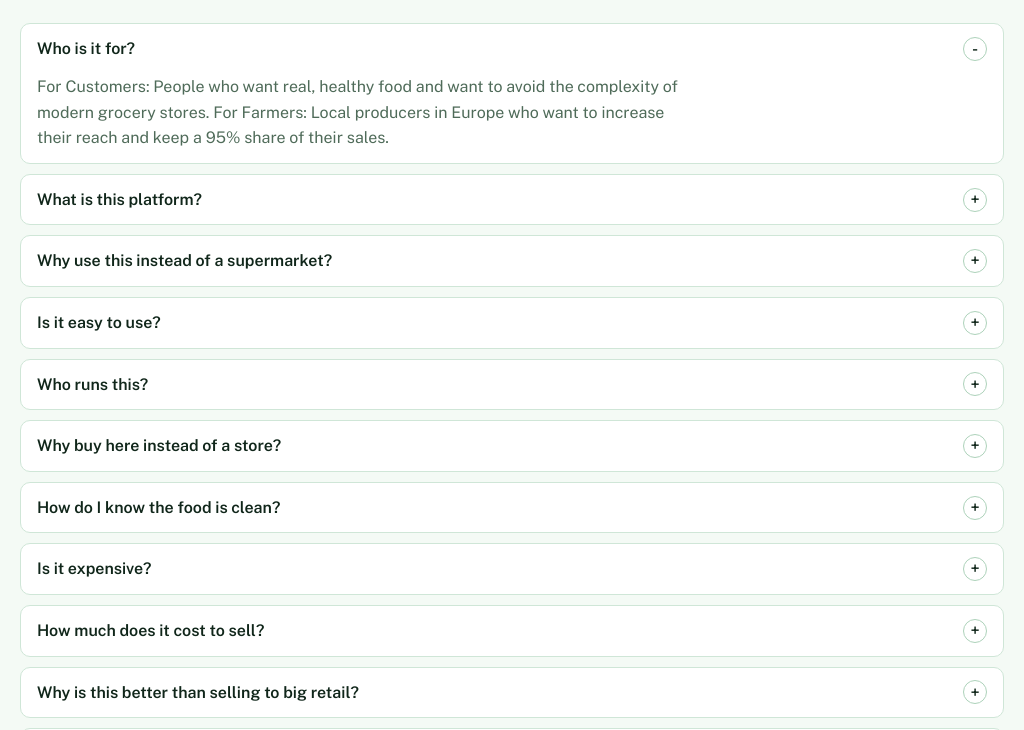
Test: App › expands FAQ answers in accordion mode
(page scrolled)
Click the button "Who runs this? +" at (93, 384), box [21,360,1003,409]
(page scrolled)
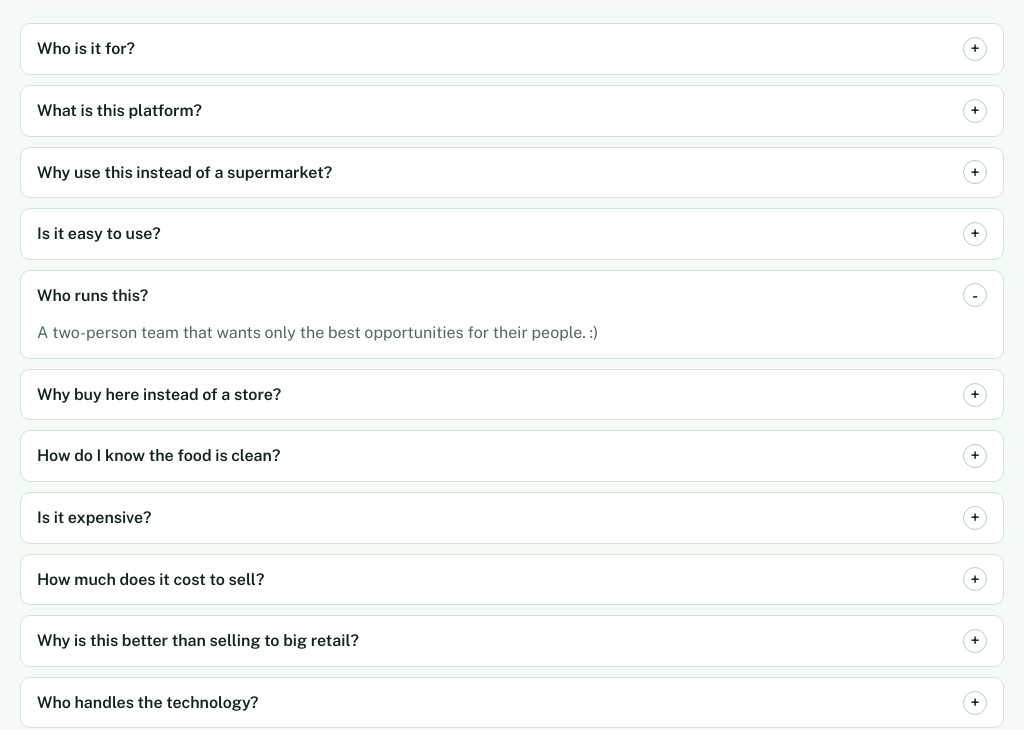
Result: the text "A two-person team that wants only the best opportunities" is shown at [37,323,598,342]
